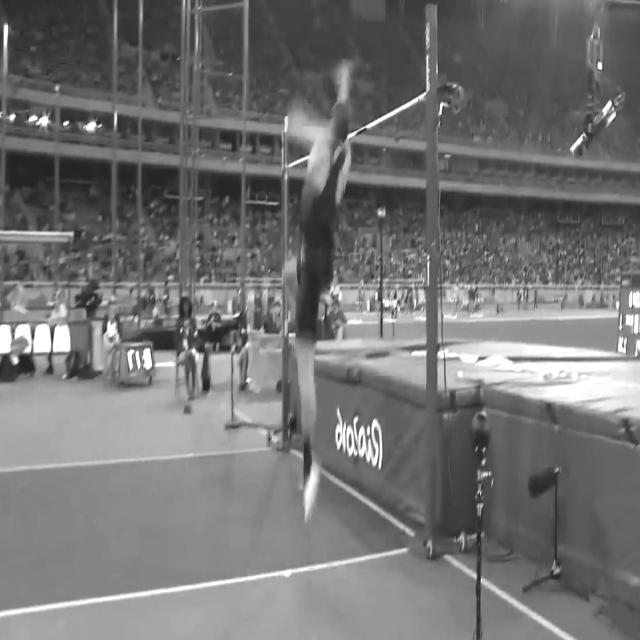jump: (279, 52, 357, 526)
